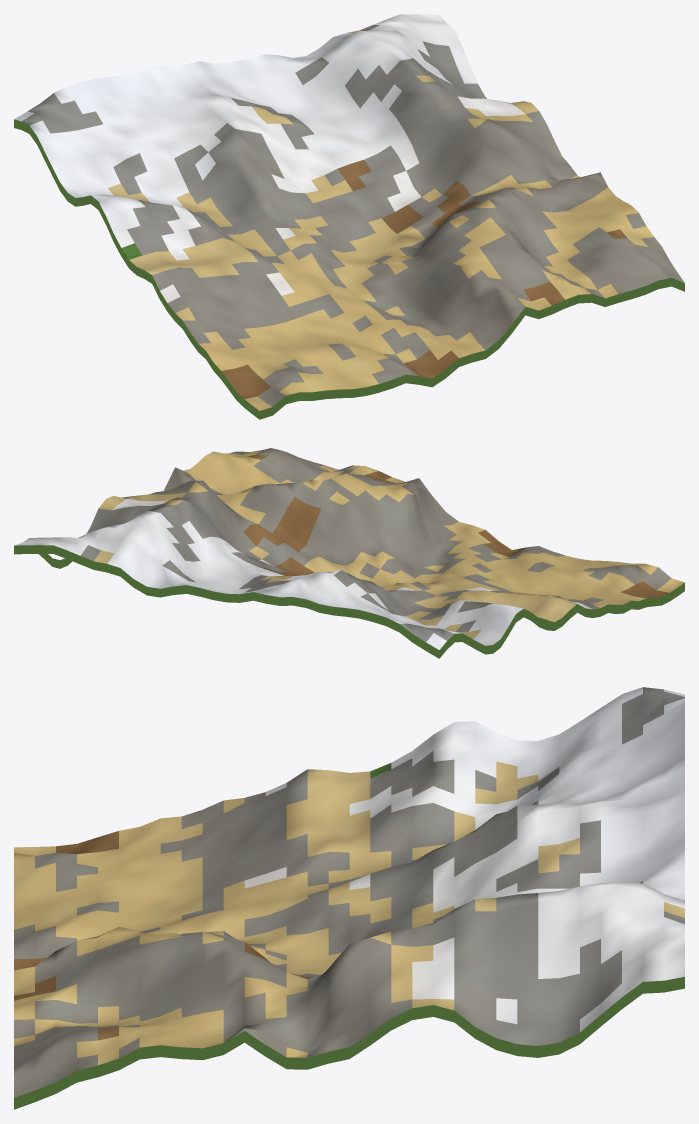
File: chunk_7_3_lod1.glb
The picture shows the model from 3 angles, top to bottom: view 1: azimuth 30°, elevation 25°; view 2: azimuth 150°, elevation 25°; view 3: azimuth 270°, elevation 25°; orthographic projection. The views are drawn at different scales.
Visible parts, largest first — view 1: Surface_Gravel, Surface_Snow, Surface_Sand, Skirt, Surface_Dirt; view 2: Surface_Gravel, Surface_Sand, Surface_Snow, Skirt, Surface_Dirt; view 3: Surface_Gravel, Surface_Snow, Surface_Sand, Skirt, Surface_Dirt.
Part boxes in pixels (x1,y1,x2,y2): Surface_Gravel: (22, 25, 684, 406); Surface_Snow: (14, 14, 525, 302); Surface_Sand: (108, 30, 653, 410); Skirt: (14, 119, 684, 419); Surface_Dirt: (221, 160, 627, 398); Surface_Gravel: (61, 448, 671, 641); Surface_Sand: (94, 450, 684, 638); Surface_Snow: (14, 499, 591, 649); Skirt: (14, 545, 684, 658); Surface_Dirt: (243, 454, 668, 598); Surface_Gravel: (14, 687, 684, 1097); Surface_Snow: (244, 687, 684, 1031); Surface_Sand: (14, 761, 684, 1065); Skirt: (14, 977, 684, 1109); Surface_Dirt: (14, 831, 314, 1040).
Bounding box in the file's own units: 256 × 87.77 × 256.
